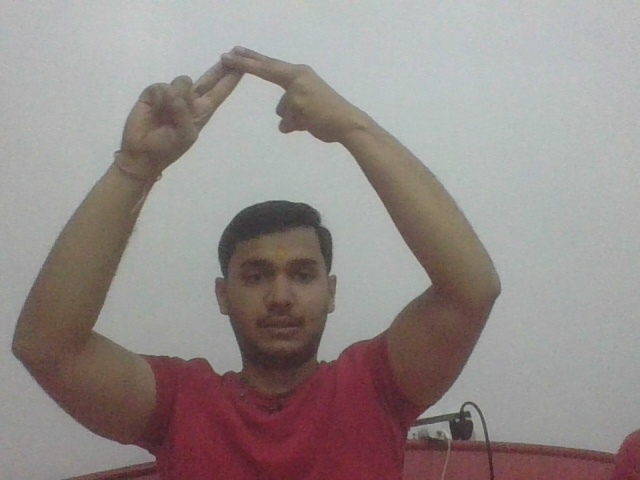F: (125, 43, 360, 148)
